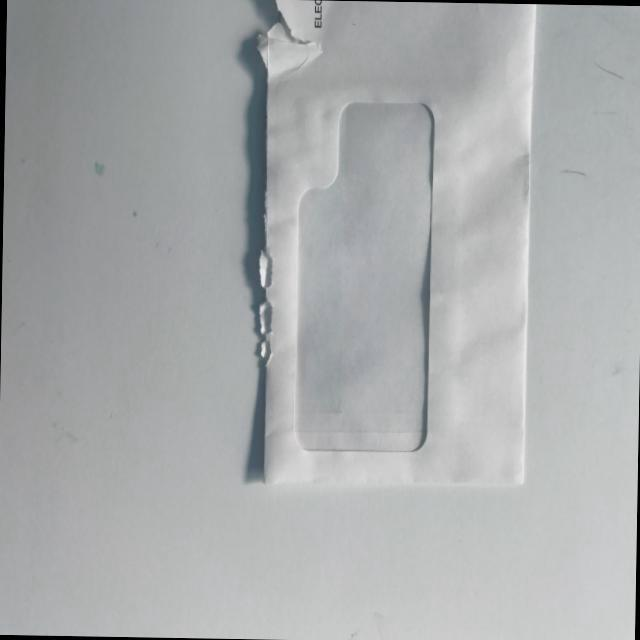paper: (182, 0, 573, 517)
